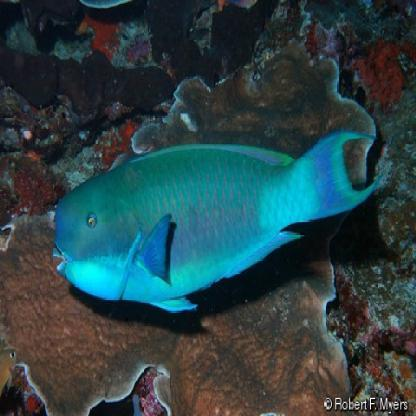Bio: (47, 123, 384, 317)
